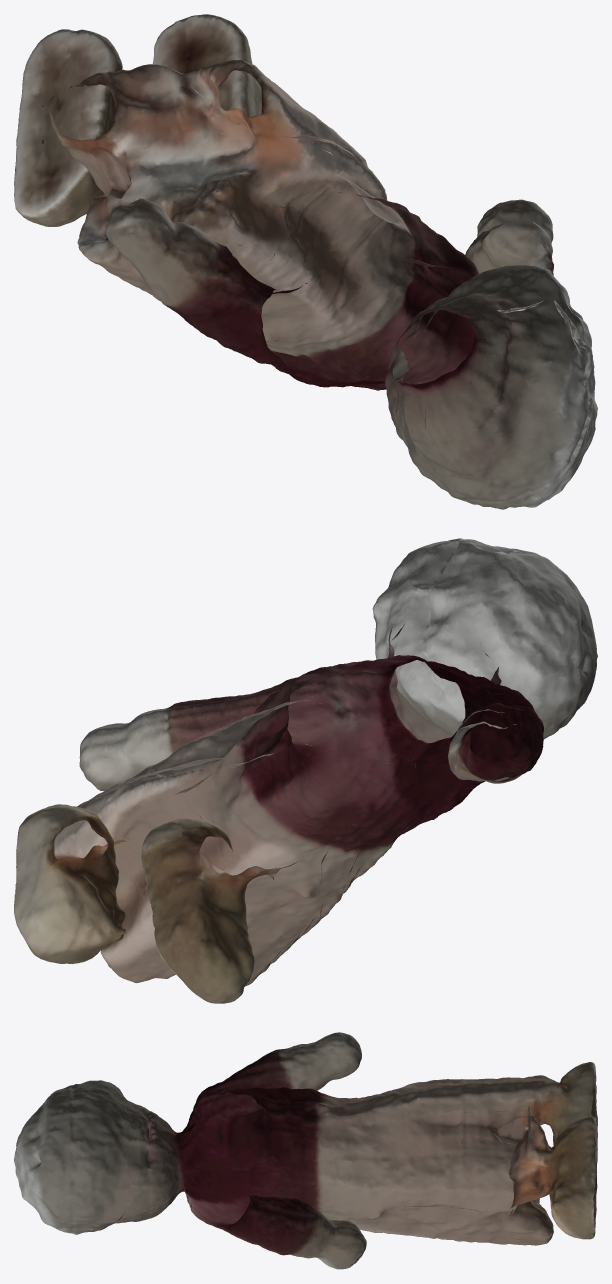
The model's file is grandmother.glb.
3 renders of one model, top to bottom at view 1: azimuth 30°, elevation 25°; view 2: azimuth 150°, elevation 25°; view 3: azimuth 270°, elevation 25°, orthographic. The views are drawn at different scales.
Size of the model in its own units: 0.5868 by 0.2808 by 1.
